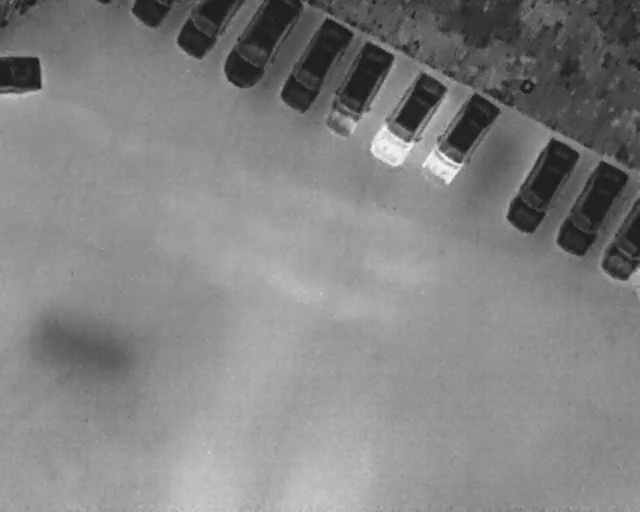Car: (361, 63, 454, 175), (271, 10, 359, 119), (415, 86, 506, 190), (315, 35, 400, 145), (499, 132, 583, 238), (550, 156, 633, 262), (222, 0, 304, 89), (174, 0, 243, 60), (599, 196, 639, 282), (0, 54, 51, 98), (130, 0, 174, 29)
